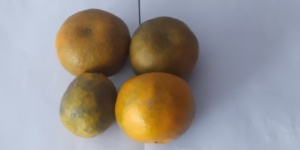BAD: (115, 72, 195, 144), (56, 6, 130, 77), (130, 14, 200, 82), (60, 68, 118, 138)
